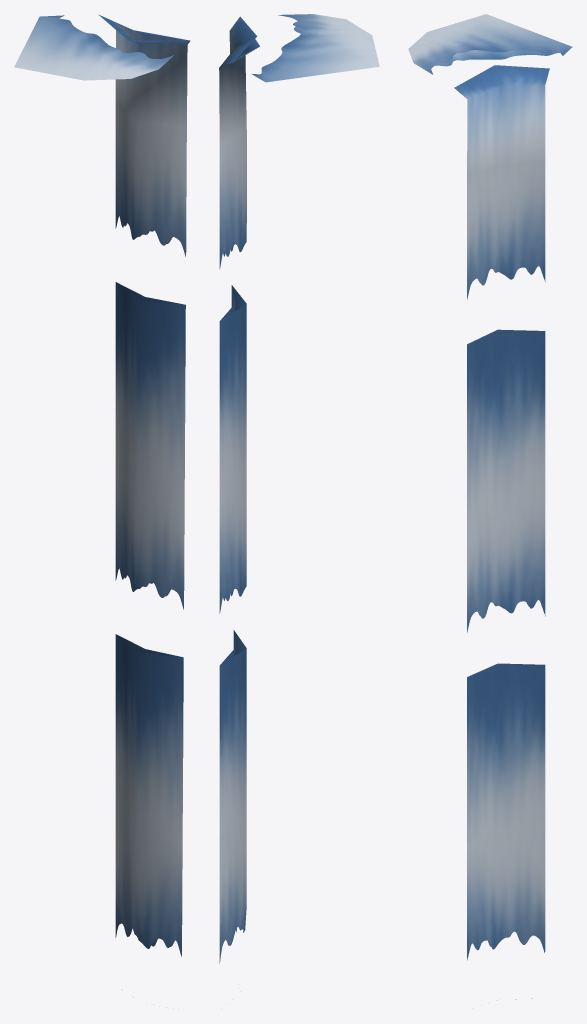
File: Ile_2_Riviere_Test.FBX
3 renders of one model, left to right at view 1: azimuth 30°, elevation 25°; view 2: azimuth 150°, elevation 25°; view 3: azimuth 270°, elevation 25°, orthographic. The views are drawn at different scales.
Visible parts, largest first — view 1: Ile_2_Riviere; view 2: Ile_2_Riviere; view 3: Ile_2_Riviere.
Part boxes in pixels (left/top/right/bottom): Ile_2_Riviere: left=14, top=14, right=190, bottom=956; Ile_2_Riviere: left=219, top=14, right=379, bottom=963; Ile_2_Riviere: left=408, top=14, right=572, bottom=999.
Size of the model in its own units: 1421 by 8130 by 1307.
